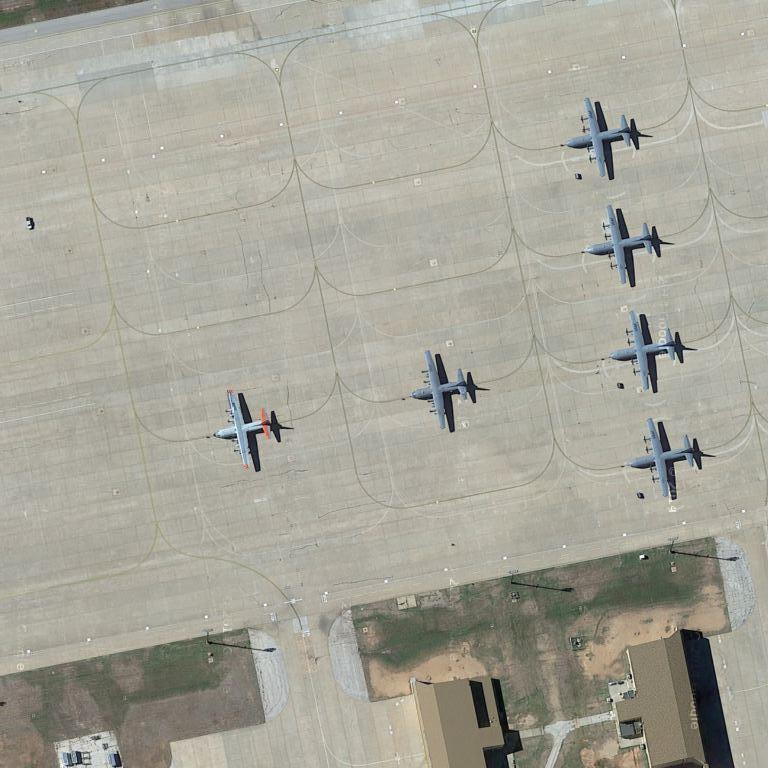C-130: (560, 98, 643, 184), (610, 305, 689, 393), (409, 343, 484, 433), (583, 204, 664, 287), (210, 385, 282, 472), (624, 420, 697, 502)
